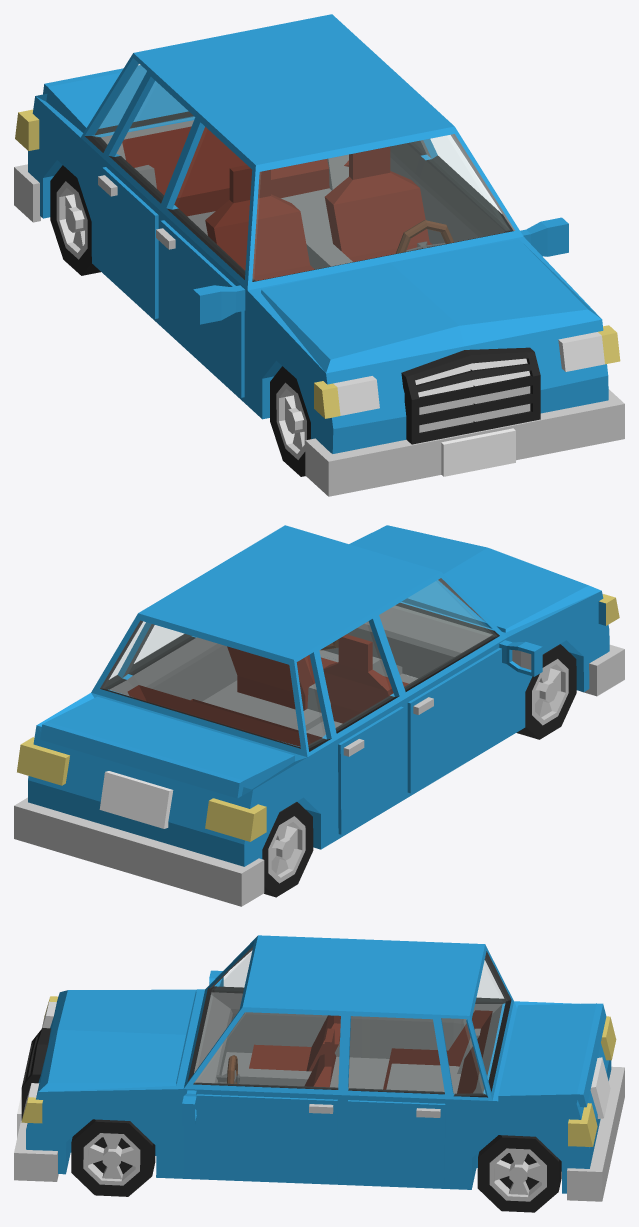
The model's file is car.gltf.
3 renders of one model, top to bottom at view 1: azimuth 30°, elevation 25°; view 2: azimuth 150°, elevation 25°; view 3: azimuth 270°, elevation 25°, orthographic. The views are drawn at different scales.
Parts seen in each view (by area): view 1: Car, Glass, Armchairs, Steering wheel; view 2: Car, Glass, Armchairs; view 3: Car, Glass, Armchairs.
Part boxes in pixels (x1=…): Car: x1=14, y1=14, x2=624, y2=496; Glass: x1=95, y1=64, x2=511, y2=280; Armchairs: x1=122, y1=126, x2=432, y2=280; Steering wheel: x1=395, y1=220, x2=454, y2=253; Car: x1=14, y1=525, x2=624, y2=906; Glass: x1=104, y1=580, x2=496, y2=746; Armchairs: x1=127, y1=634, x2=408, y2=746; Car: x1=14, y1=935, x2=624, y2=1212; Glass: x1=195, y1=951, x2=505, y2=1094; Armchairs: x1=249, y1=1010, x2=492, y2=1093.
Size of the model in its own units: 2.82 by 1.76 by 5.35.
